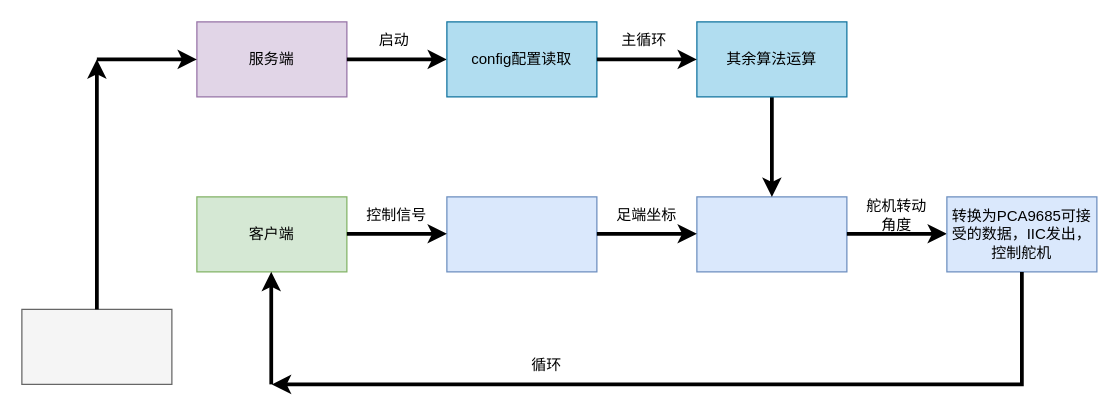
Some shapes in this 1119 by 418 pixel diagram are drawn without their labels. The shapes that lost their labels are listed below. From the top down, each one's centre as x and y in pixels, then its label:
point (521, 234): Trot步态函数
point (771, 234): 运动学逆解
point (96, 346): 开始
